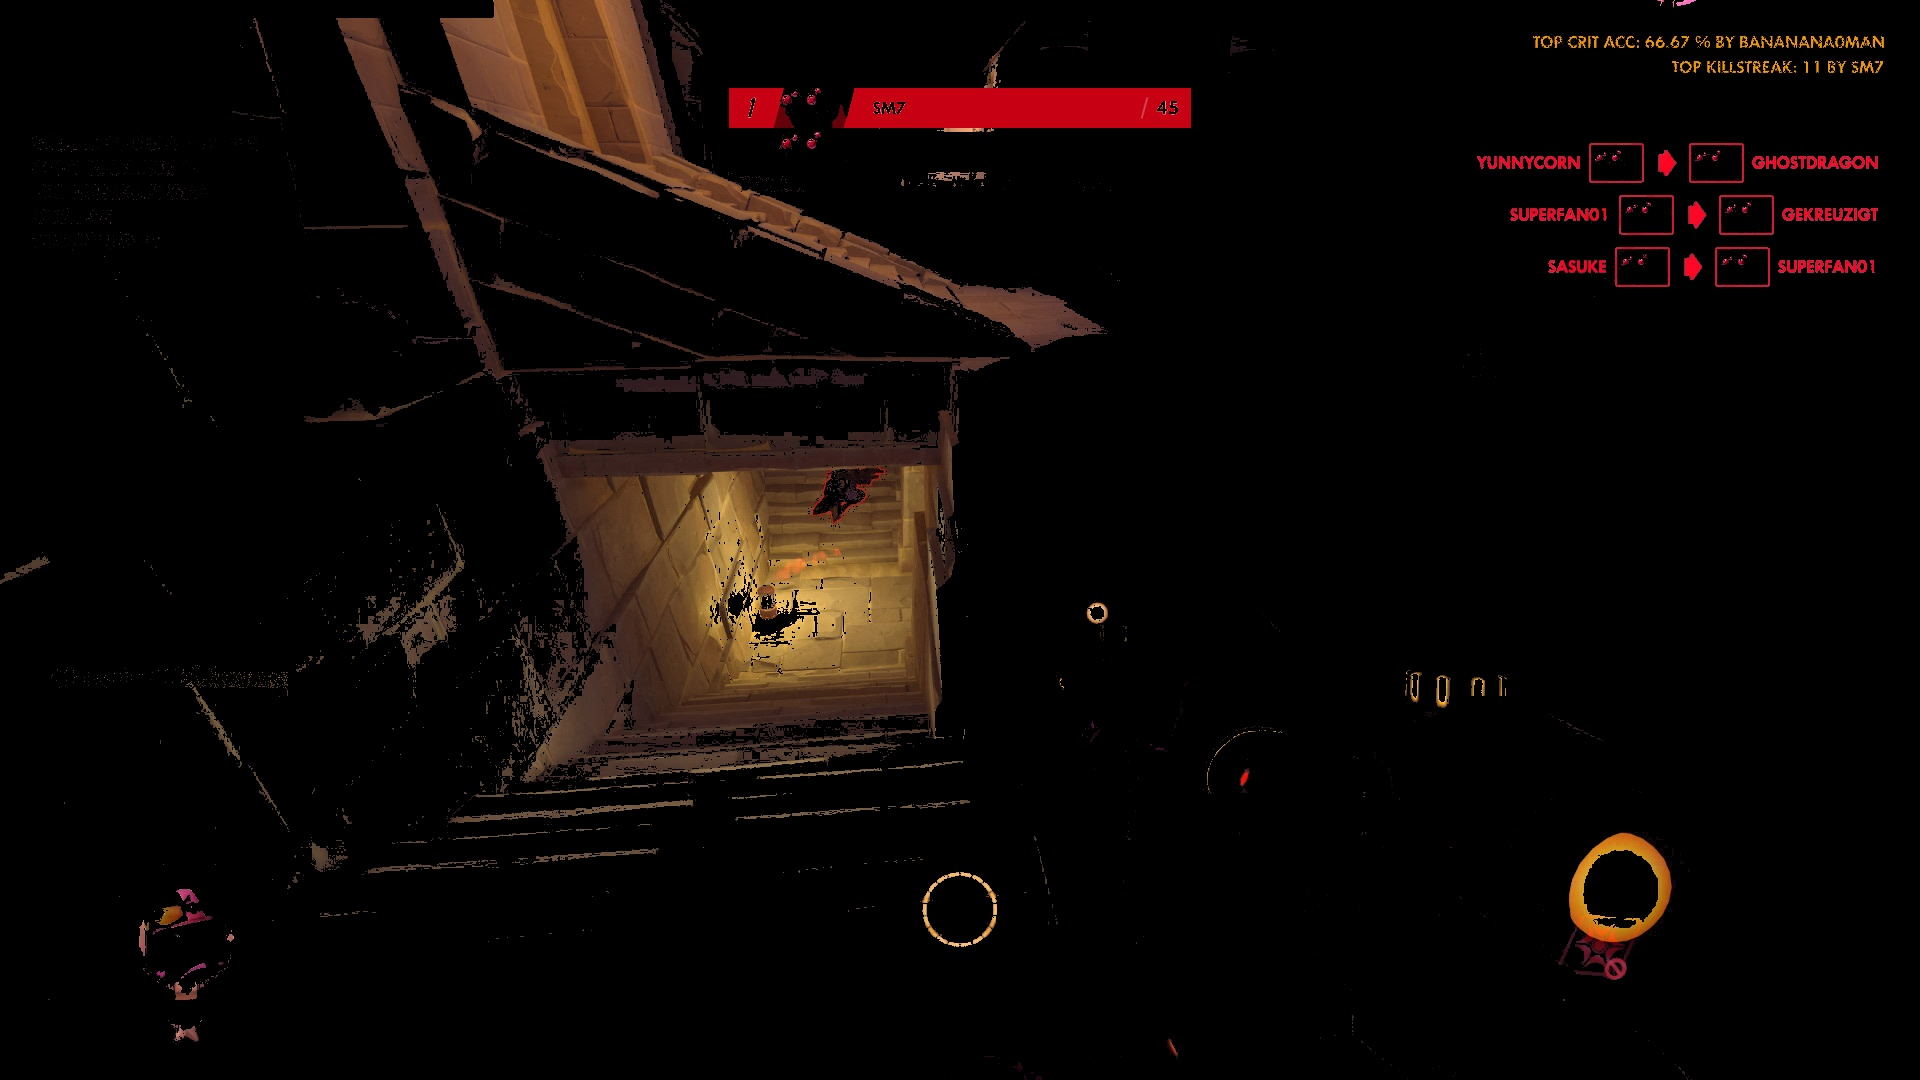widowmaker: (808, 462, 889, 534)
